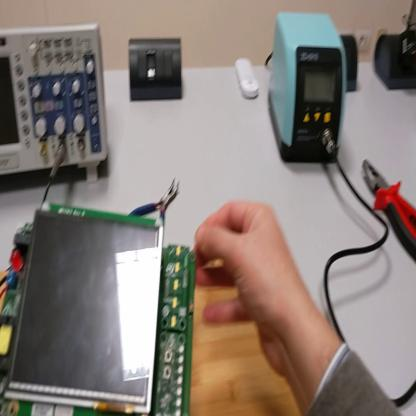hand: (194, 199, 306, 371)
low voltage board: (1, 199, 201, 416)
oscilloscope: (3, 24, 108, 182)
pliers: (362, 158, 416, 268), (130, 176, 182, 217)
socket: (374, 32, 415, 93), (341, 37, 360, 91)
welder station: (268, 14, 348, 169)
working area: (189, 250, 302, 413)
